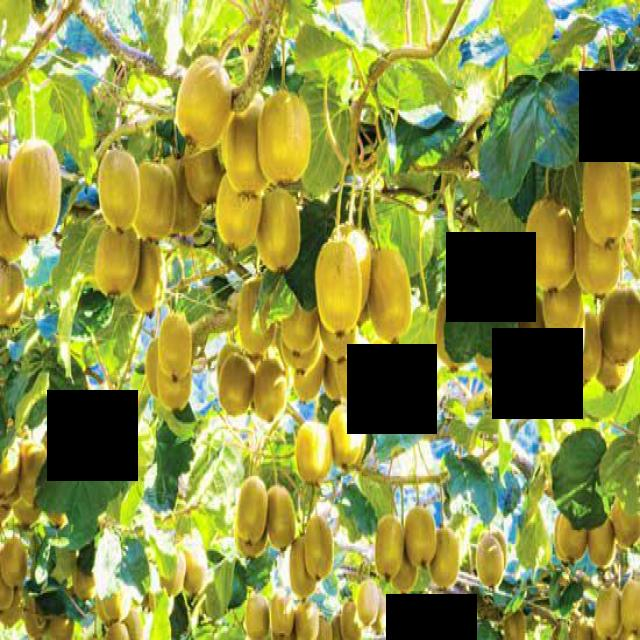kiwi: (6, 137, 64, 247), (583, 143, 635, 251), (178, 57, 235, 155), (259, 89, 313, 190), (367, 244, 416, 354), (526, 197, 578, 298), (223, 106, 275, 206), (254, 183, 303, 277), (315, 242, 364, 336), (332, 214, 375, 315), (215, 171, 264, 258), (573, 218, 622, 305), (98, 148, 144, 240), (136, 155, 179, 249), (333, 329, 379, 409), (92, 231, 141, 303), (598, 284, 640, 368), (1, 155, 30, 275), (168, 153, 206, 240), (238, 277, 278, 359), (567, 312, 607, 394), (435, 291, 472, 378), (132, 238, 170, 320), (327, 404, 370, 470), (184, 145, 228, 209), (297, 420, 337, 486), (254, 355, 290, 428), (161, 312, 195, 387), (405, 505, 442, 573), (218, 354, 256, 420), (236, 475, 270, 547), (542, 284, 584, 342), (280, 296, 320, 356), (429, 526, 463, 594), (267, 482, 299, 554), (305, 514, 337, 586), (374, 516, 406, 584), (518, 291, 546, 366), (1, 261, 29, 333), (476, 533, 511, 589), (21, 439, 48, 511), (556, 510, 588, 570), (290, 537, 318, 605), (609, 493, 640, 554), (585, 515, 617, 573), (591, 578, 623, 636), (596, 355, 636, 399), (157, 371, 195, 417), (185, 535, 212, 598), (1, 533, 30, 591), (320, 324, 360, 366), (292, 364, 324, 413), (284, 341, 324, 379), (162, 544, 190, 598), (245, 585, 272, 640), (269, 587, 297, 640), (100, 582, 132, 628), (1, 443, 23, 507), (549, 331, 584, 369), (478, 350, 518, 383), (390, 556, 419, 600), (71, 559, 100, 601), (144, 341, 166, 395), (358, 580, 382, 629), (342, 597, 368, 640), (296, 599, 323, 640), (620, 575, 640, 627), (26, 595, 48, 640), (41, 426, 70, 458), (372, 594, 393, 638), (122, 608, 150, 640), (49, 611, 79, 640), (504, 608, 530, 640), (13, 503, 42, 531), (516, 355, 548, 379), (568, 613, 596, 640), (41, 507, 71, 531), (238, 535, 267, 559), (541, 364, 569, 388), (1, 573, 15, 615), (105, 620, 134, 640), (319, 611, 337, 640), (332, 608, 348, 640)
